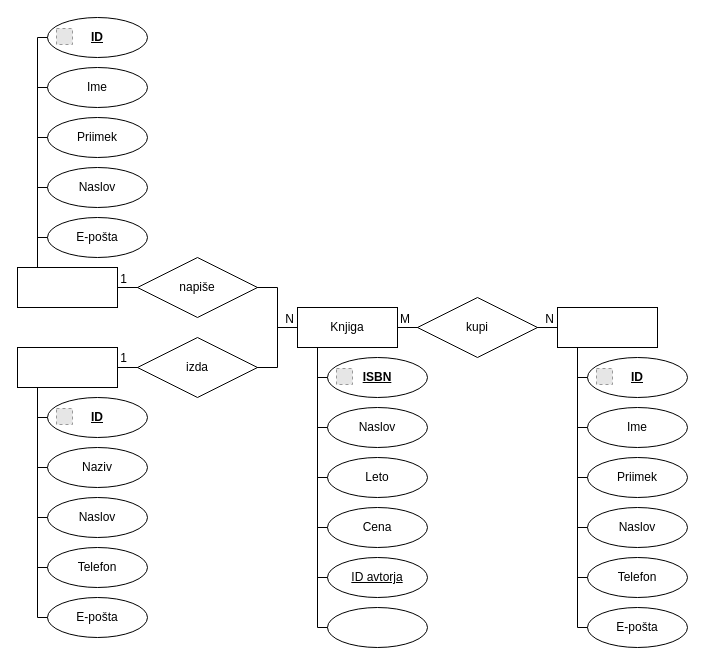
Image size: 705x665. Some labels were removed from this diagram. Grey dashed boxes stand in for pictures. Each missing label, with the box of its shape:
Avtor: (16, 266, 118, 308)
ID založnika: (326, 606, 428, 648)
Stranka: (556, 306, 658, 348)
Založnik: (16, 346, 118, 388)
